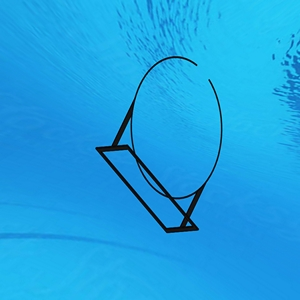circle: (93, 52, 238, 245)
